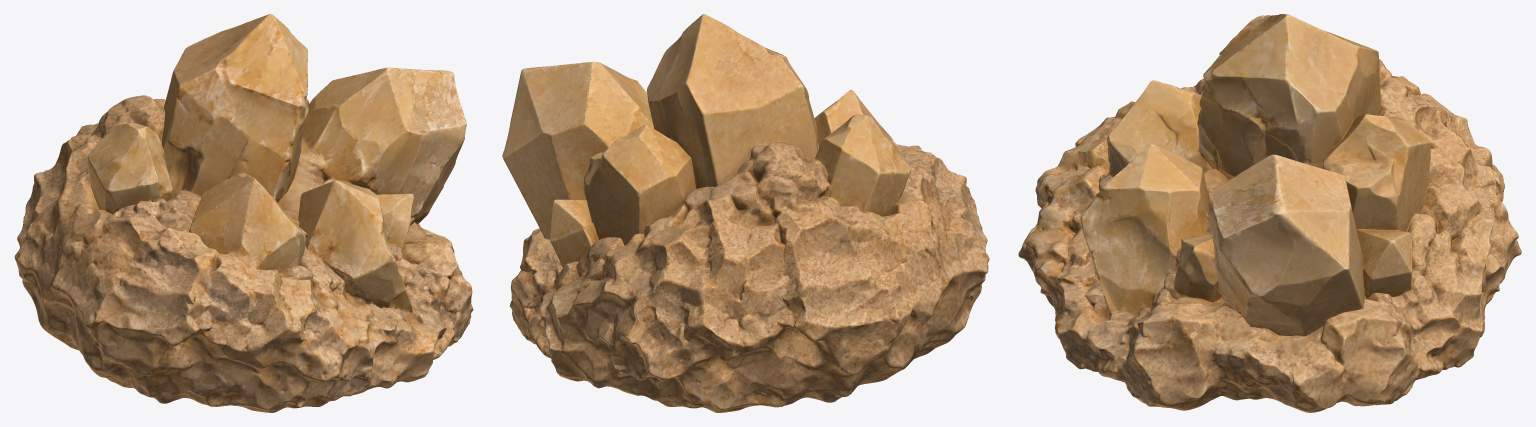
Rendered from 05 mineral.glb.
The picture shows the model from 3 angles, left to right: view 1: azimuth 30°, elevation 25°; view 2: azimuth 150°, elevation 25°; view 3: azimuth 270°, elevation 25°; orthographic projection. The views are drawn at different scales.
Visible parts, largest first — view 1: tripo_node_debd2b6e-9873-4a09-86ed-8d6429981d18; view 2: tripo_node_debd2b6e-9873-4a09-86ed-8d6429981d18; view 3: tripo_node_debd2b6e-9873-4a09-86ed-8d6429981d18.
Part boxes in pixels (left/top/right/bottom): tripo_node_debd2b6e-9873-4a09-86ed-8d6429981d18: left=14, top=14, right=473, bottom=412; tripo_node_debd2b6e-9873-4a09-86ed-8d6429981d18: left=502, top=14, right=989, bottom=412; tripo_node_debd2b6e-9873-4a09-86ed-8d6429981d18: left=1018, top=14, right=1521, bottom=412.
Size of the model in its own units: 0.9786 by 0.7242 by 0.9792.
Materials: 1 (1 with a texture image).
